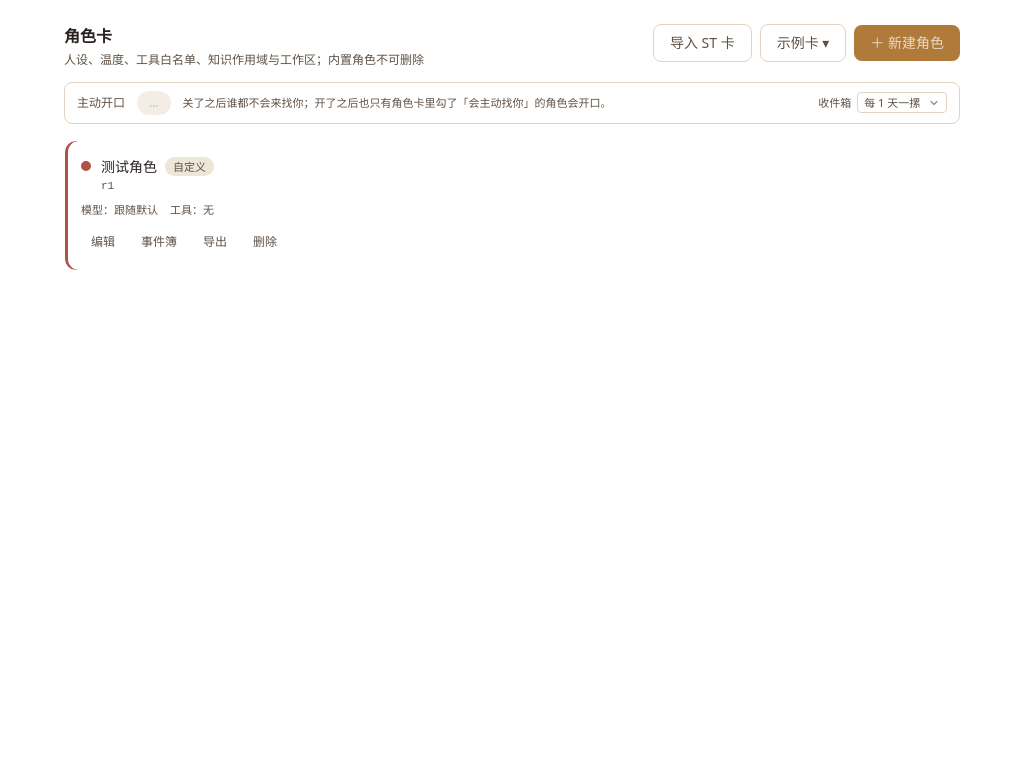
Test: 工作区（2026-10-30 搬进每张角色卡内部，每个角色一份） › 在角色卡的编辑区里，读的是**这个角色**的那份目录；点「浏览…」开目录抽屉
Expected: the text "测试角色" is shown, [101,156,157,176]
Expected: the field showing "D:/wk" is not shown
Click the button "编辑": x=103, y=242 [81,230,125,254]
(page scrolled)
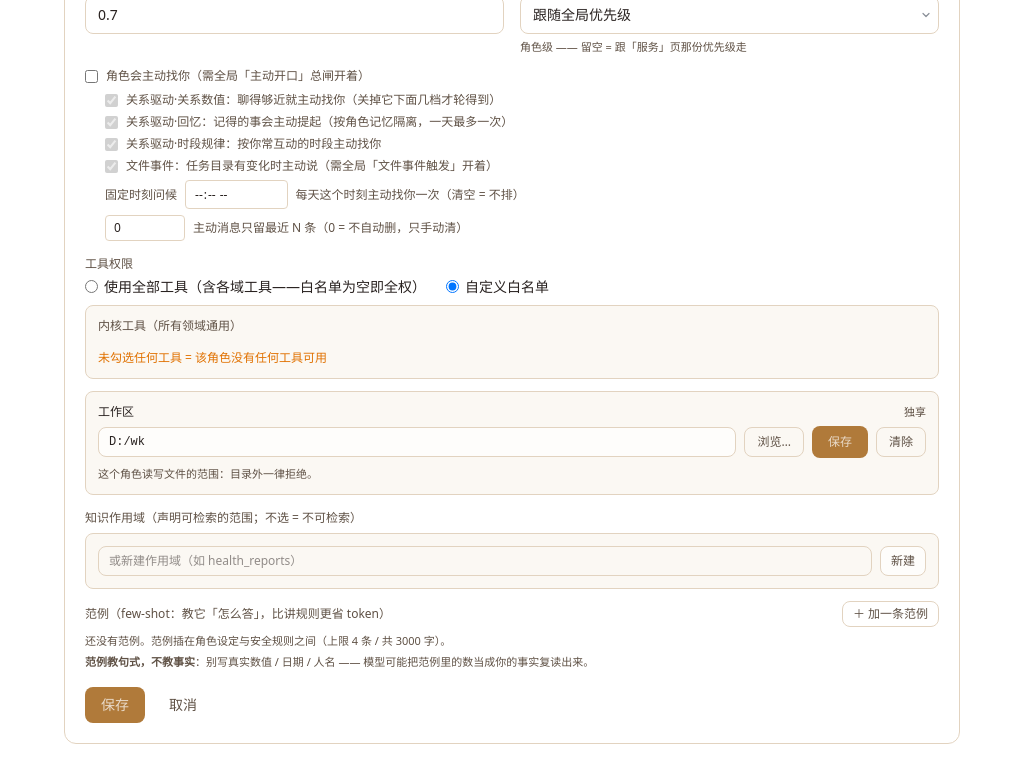
Expected: the field showing "D:/wk" is shown, [98,427,736,457]
Click the button "浏览…": x=774, y=442 [744,427,804,457]
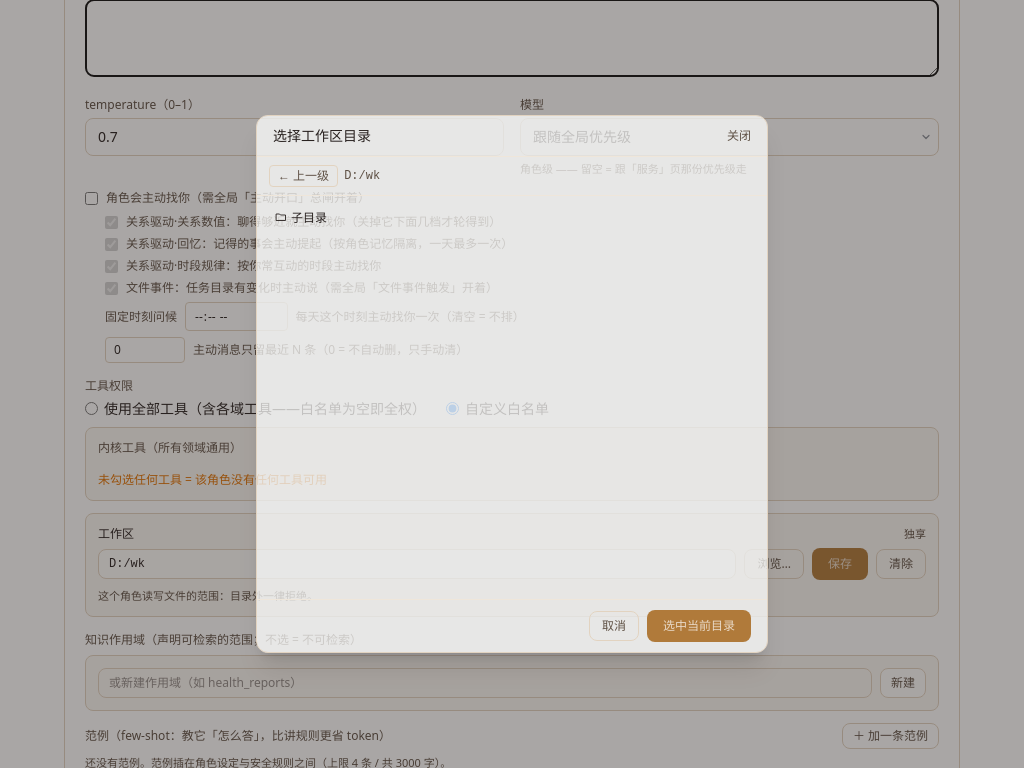
Expected: the text "选择工作区目录" is shown, [273,126,371,146]
Expected: the text "子目录" is shown, [275,210,327,226]
